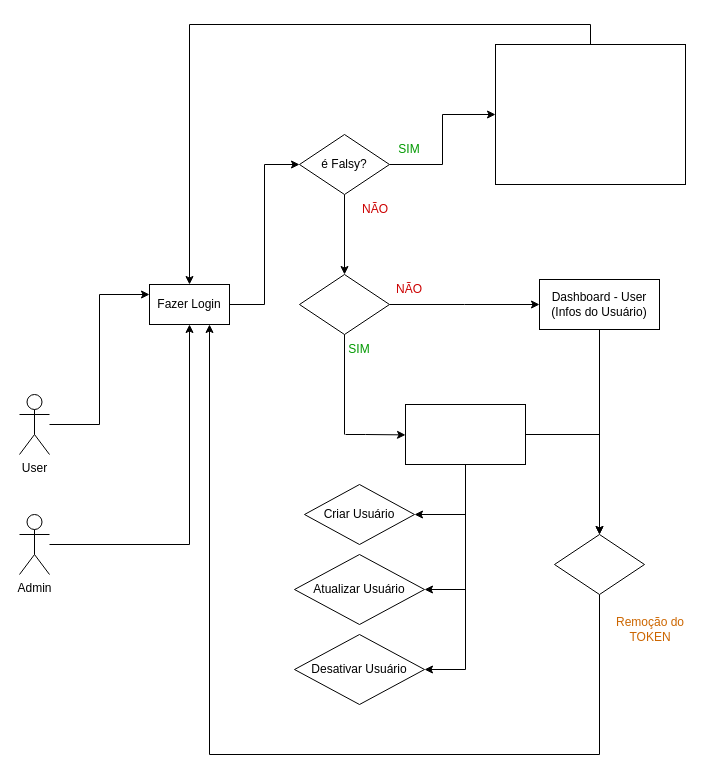
Image size: 712x780. Some labels were removed from this diagram. The centre of each missing label's shape, as x and y in pixels:
"Dashboard - Admin (Lista de Usuários)" goes at (x=465, y=434).
"Login Inválido - É esperado: Login inválido Usuário inativo Token expirado" goes at (x=590, y=114).
"Logout" goes at (x=599, y=564).
"é Admin?" goes at (x=344, y=304).
